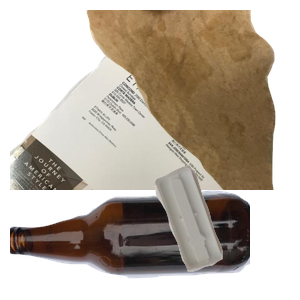glass: (10, 188, 250, 300)
paper: (10, 46, 250, 226)
plastic: (150, 163, 300, 300)
trash: (84, 10, 300, 190)
